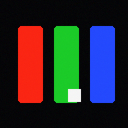1 square: (68, 89, 80, 101)
